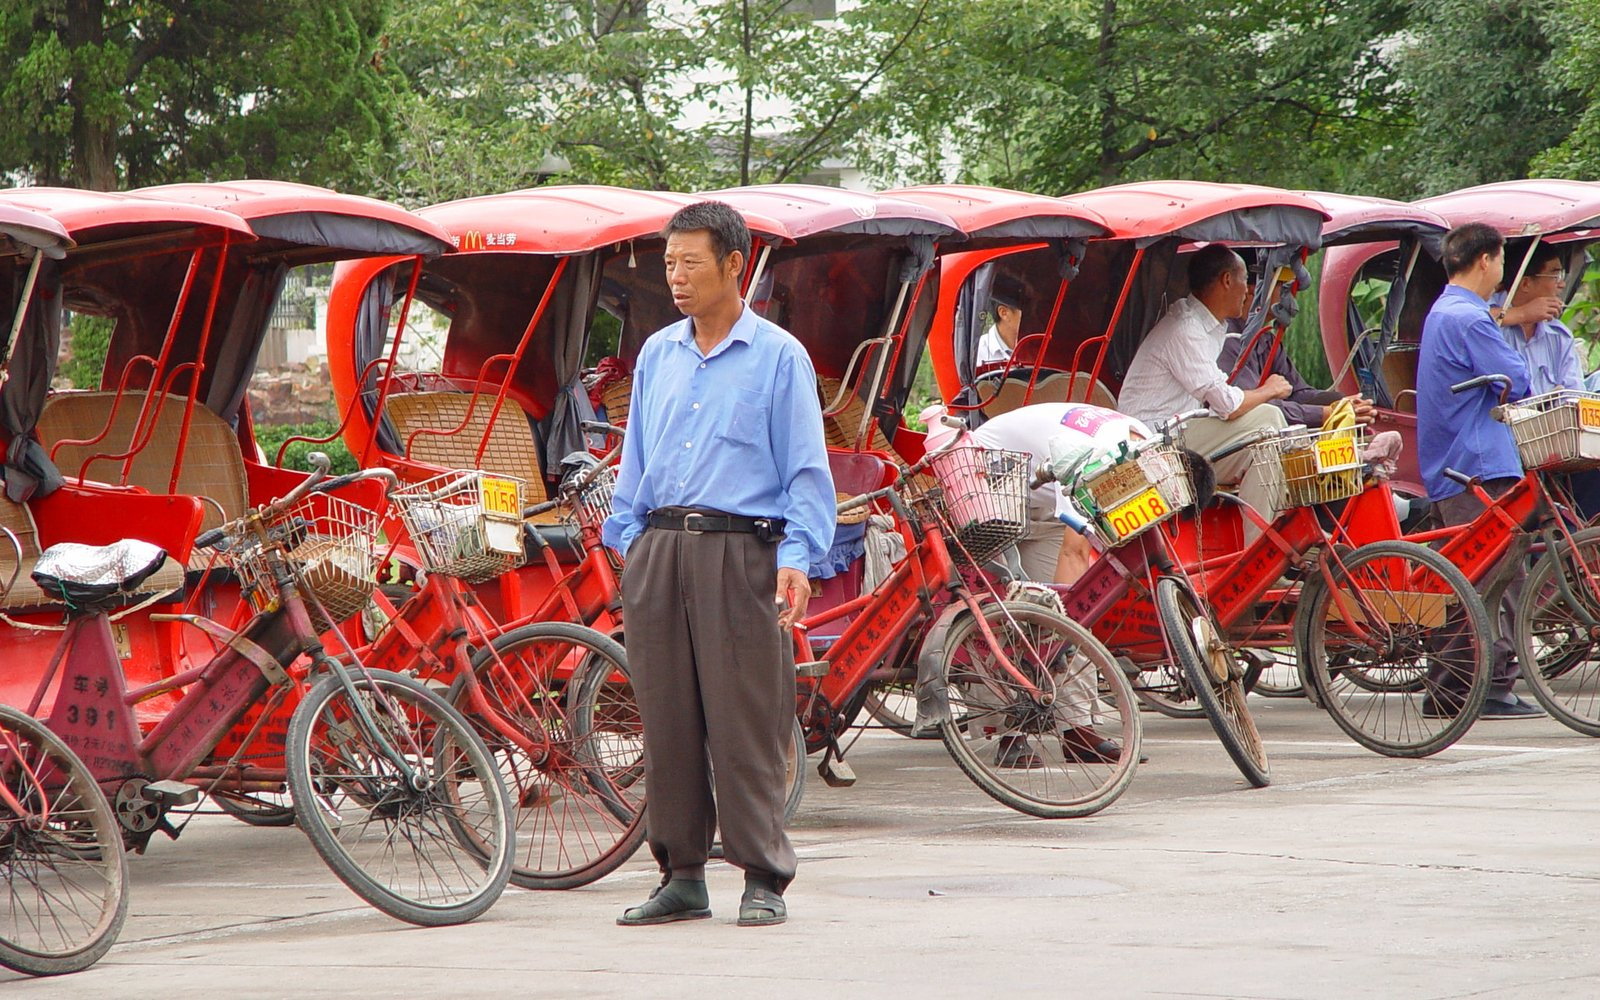Bicycle: (1, 146, 1587, 980)
